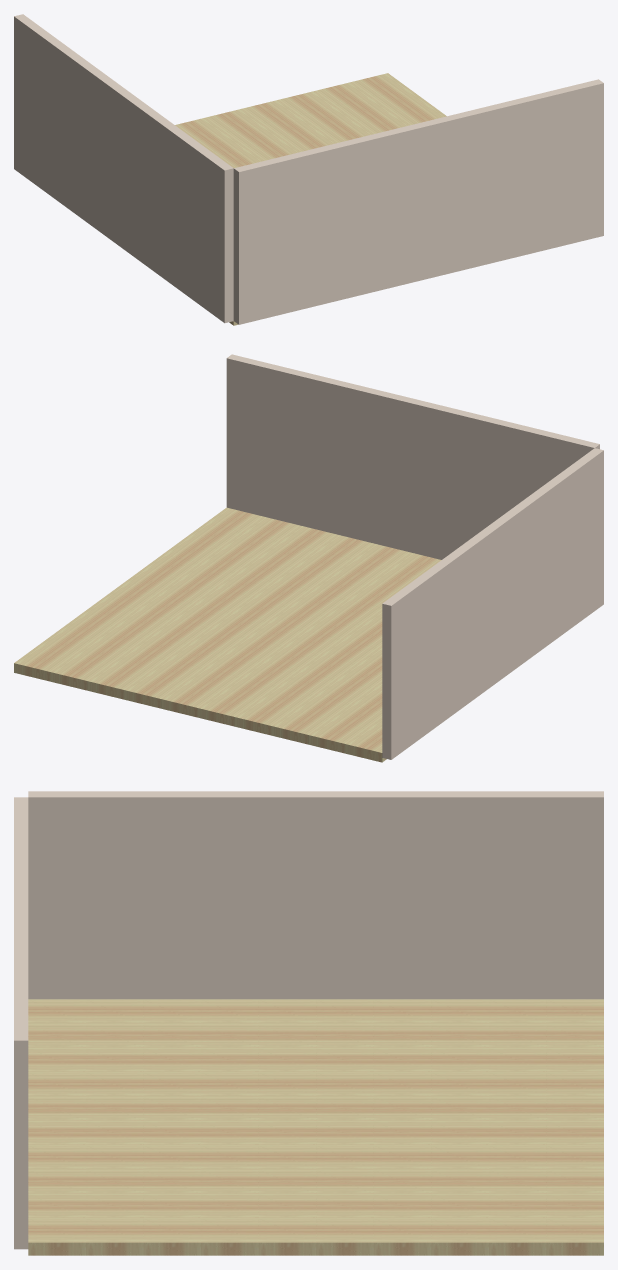
Rendered from Cafe.fbx.
3 renders of one model, top to bottom at view 1: azimuth 30°, elevation 25°; view 2: azimuth 150°, elevation 25°; view 3: azimuth 270°, elevation 25°, orthographic. The views are drawn at different scales.
Visible parts, largest first — view 1: Cube.159, Cube.001, Cube.089, Cube.069, Cube.079, Cube.099, Cube.059, Cube.060, Cube.090, Cube.100, Cube.070, Cube.080 (+8 smaller); view 2: Cube.159, Cube.001, Cube.030, Cube.080, Cube.020, Cube.070, Cube.090, Cube.040, Cube.050, Cube.100, Cube.060, Cube.010 (+63 smaller); view 3: Cube.001, Cube.159, Cube.095, Cube.097, Cube.091, Cube.092, Cube.093, Cube.094, Cube.096, Cube.098, Cube.099, Cube.100 (+90 smaller).
Boxes of the visible parts, bbox=[...] form: Cube.159: bbox=[233, 79, 603, 324]; Cube.001: bbox=[14, 14, 233, 323]; Cube.089: bbox=[336, 97, 393, 121]; Cube.069: bbox=[263, 115, 320, 139]; Cube.079: bbox=[300, 106, 356, 130]; Cube.099: bbox=[373, 88, 429, 112]; Cube.059: bbox=[227, 124, 283, 148]; Cube.060: bbox=[206, 108, 262, 132]; Cube.090: bbox=[315, 82, 372, 106]; Cube.100: bbox=[352, 73, 408, 97]; Cube.070: bbox=[242, 100, 299, 123]; Cube.080: bbox=[279, 91, 335, 114]; Cube.159: bbox=[226, 354, 599, 559]; Cube.001: bbox=[382, 448, 603, 759]; Cube.030: bbox=[271, 710, 329, 744]; Cube.080: bbox=[87, 665, 145, 699]; Cube.020: bbox=[308, 719, 366, 753]; Cube.070: bbox=[124, 674, 181, 708]; Cube.090: bbox=[50, 656, 108, 690]; Cube.040: bbox=[235, 701, 292, 735]; Cube.050: bbox=[198, 692, 255, 726]; Cube.100: bbox=[14, 647, 71, 681]; Cube.060: bbox=[161, 683, 218, 717]; Cube.010: bbox=[345, 728, 386, 762]; Cube.001: bbox=[28, 791, 603, 999]; Cube.159: bbox=[14, 797, 28, 1249]; Cube.095: bbox=[258, 1218, 316, 1255]; Cube.097: bbox=[373, 1218, 431, 1255]; Cube.091: bbox=[28, 1218, 85, 1255]; Cube.092: bbox=[86, 1218, 143, 1255]; Cube.093: bbox=[143, 1218, 200, 1255]; Cube.094: bbox=[201, 1218, 258, 1255]; Cube.096: bbox=[316, 1218, 373, 1255]; Cube.098: bbox=[431, 1218, 488, 1255]; Cube.099: bbox=[489, 1218, 546, 1255]; Cube.100: bbox=[546, 1218, 603, 1255].
Size of the model in its own units: 1025 by 413 by 1025.
2 materials, 1 textured.
